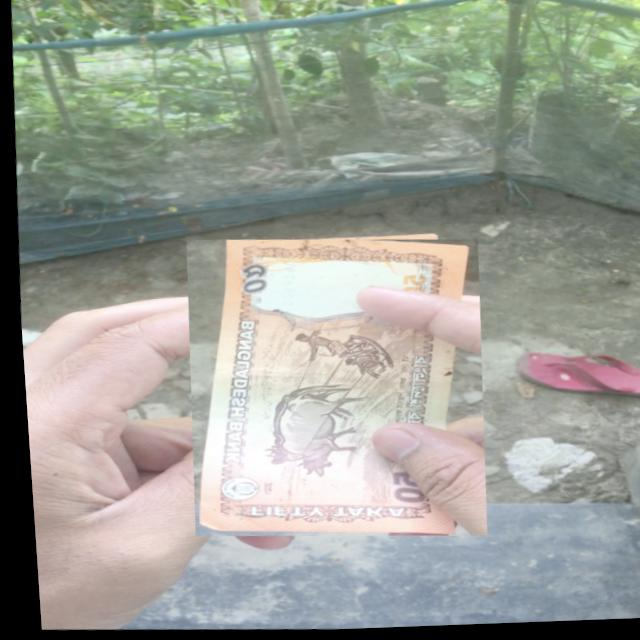Taka: (172, 232, 489, 547)
